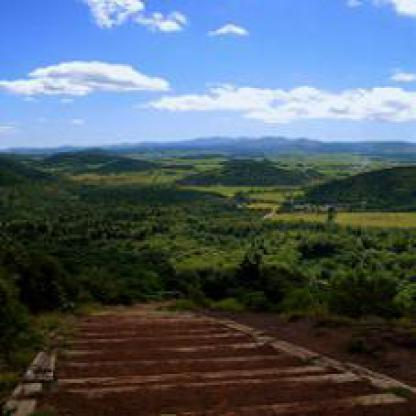stair_down: (22, 308, 304, 409)
